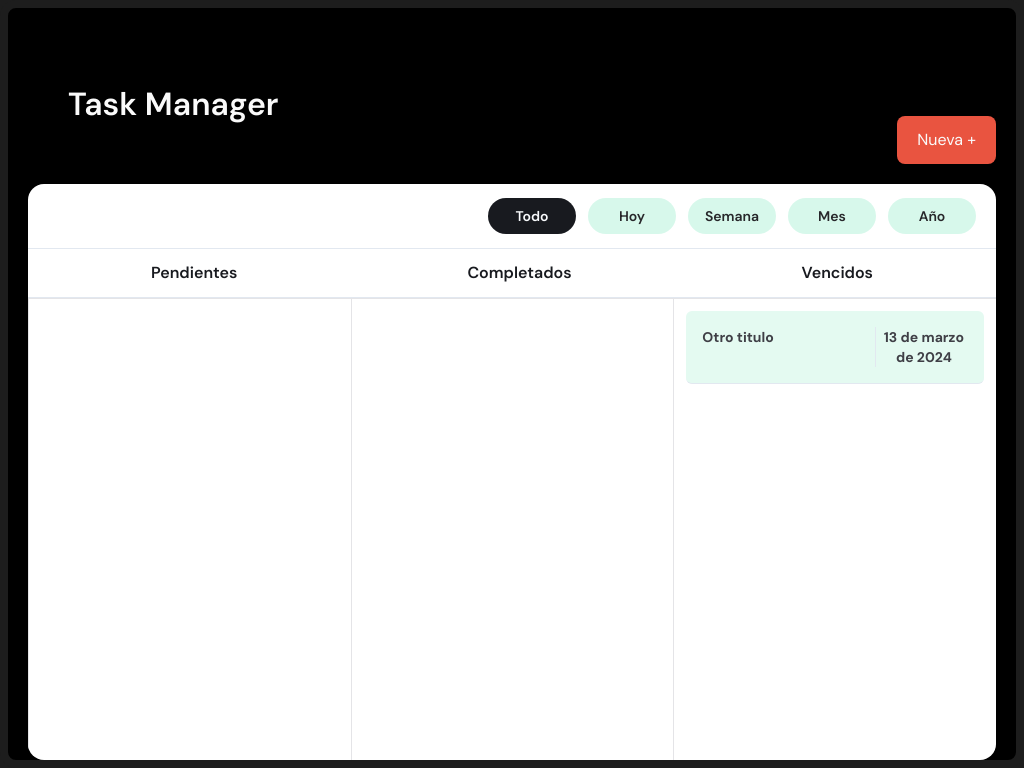
it: App › Tasks CRUD › Update › should edit subtasks list
This screenshot has width=1024, height=768.
Click the button with test id "task-card". click: (738, 337)
box: [686,311,984,383]
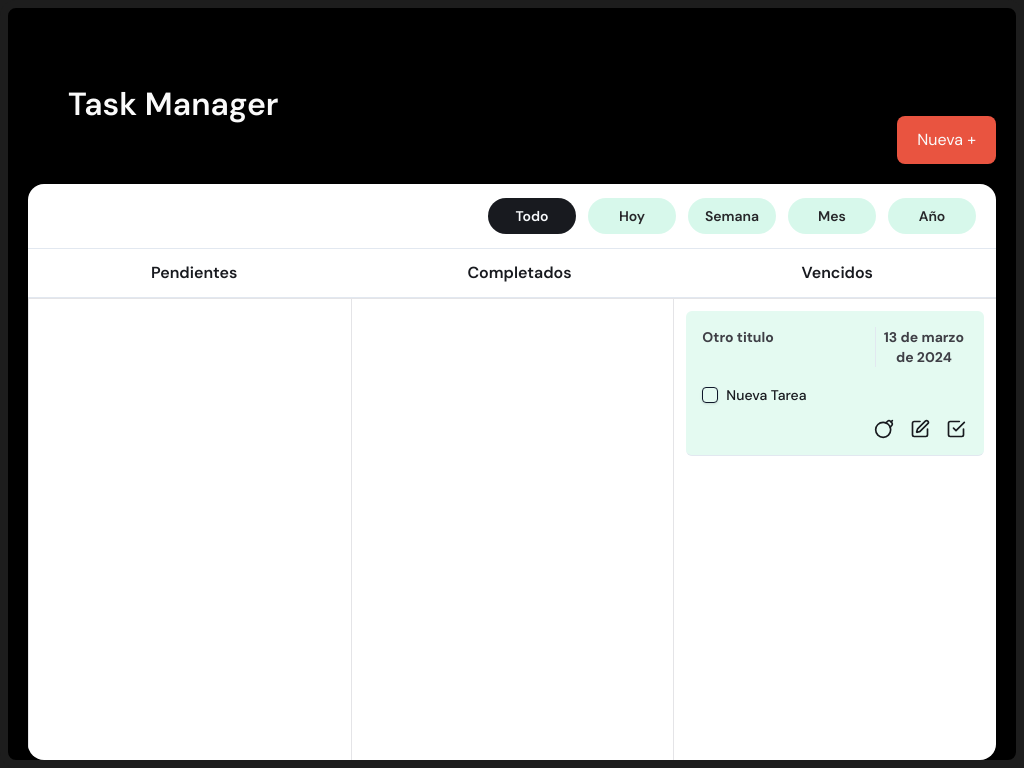
Click the button with test id "edit". click: (920, 429)
box: [908,419,932,439]
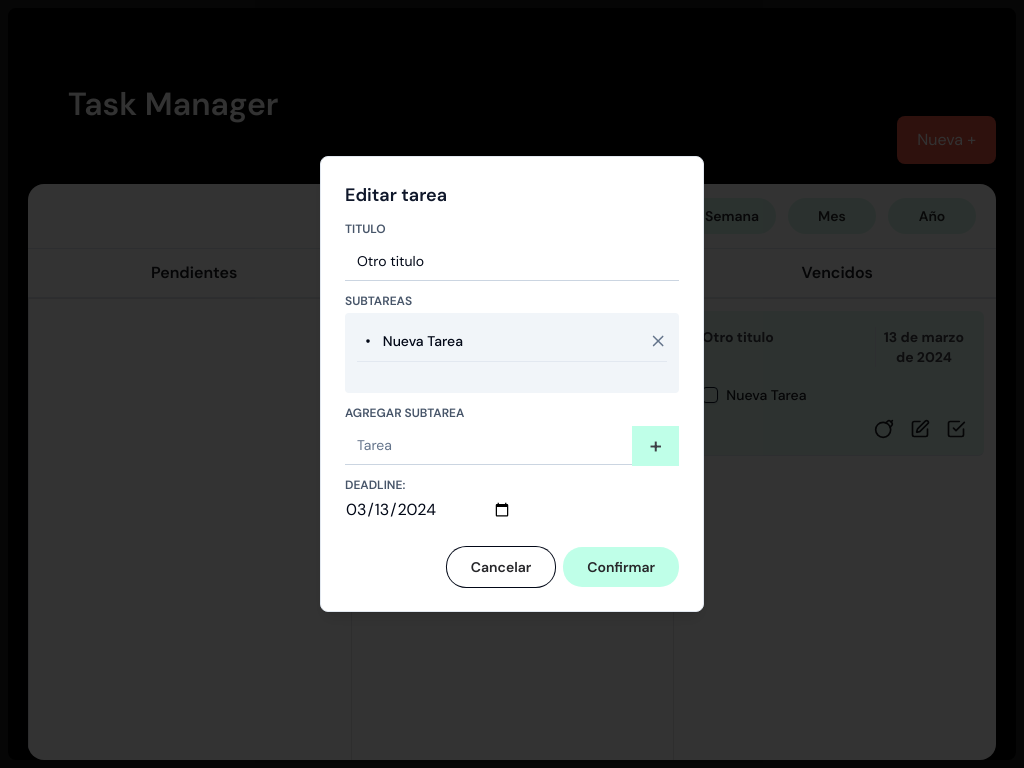
Type "tarea 2" into the field with placeholder "TAREA". click: (489, 445)
box: [345,425,632,465]
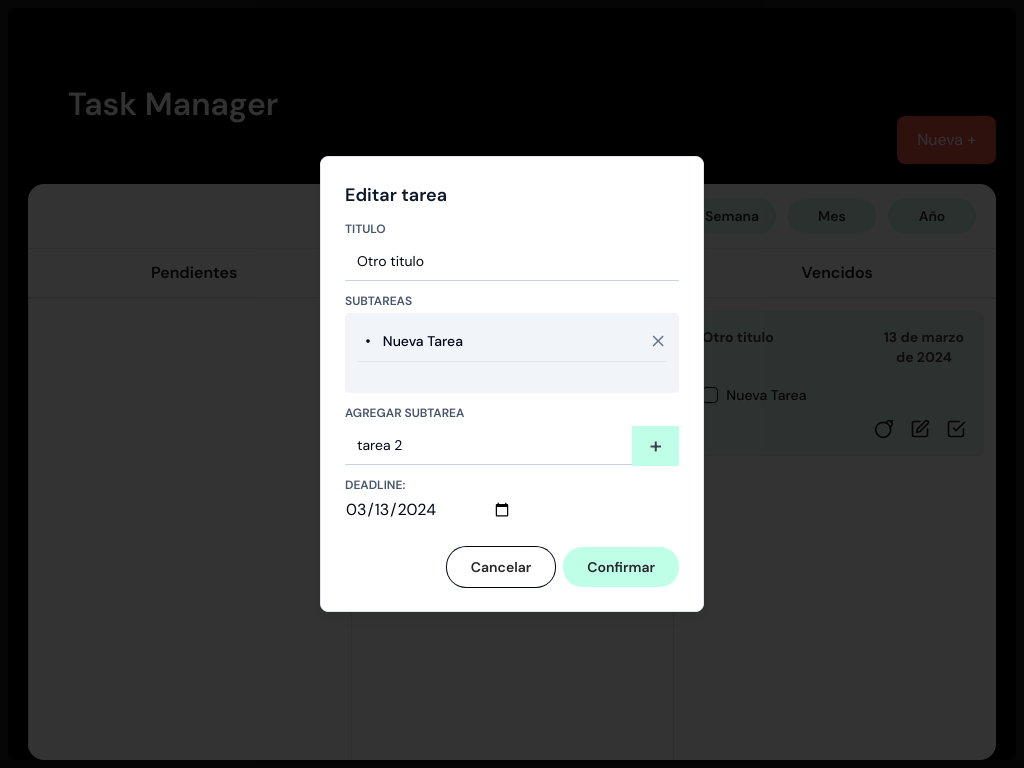
Click the button "+". click: (656, 446)
box: [632,426,679,466]
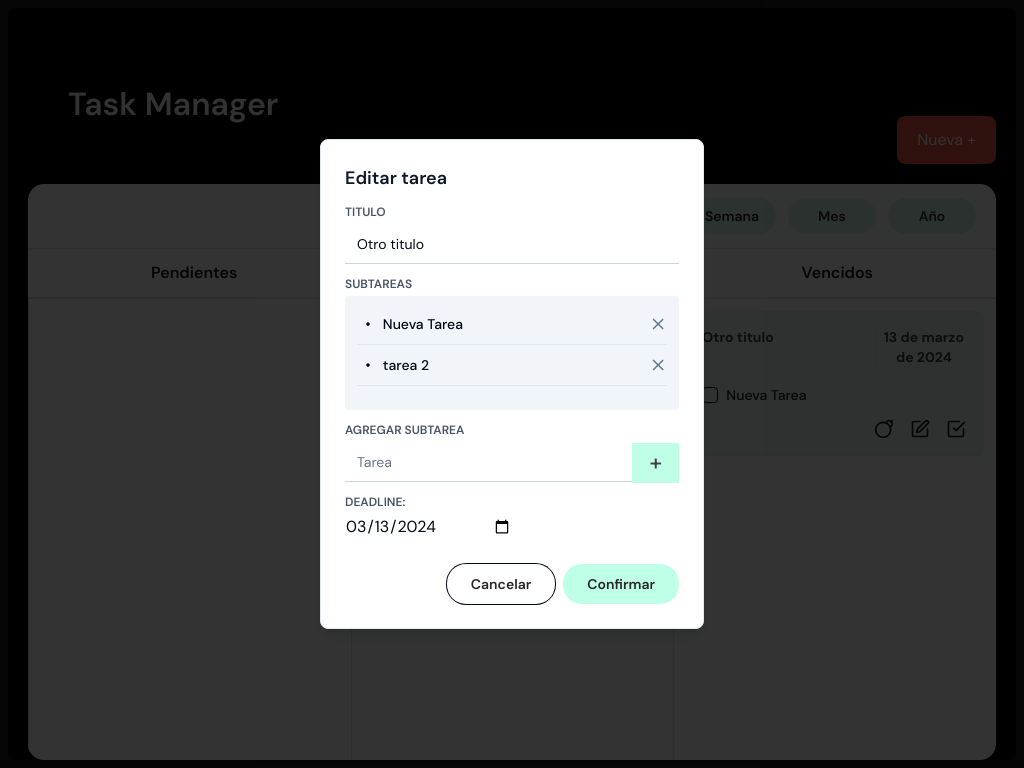
Click the button "Confirmar". click: (621, 584)
box: [563,564,679,604]
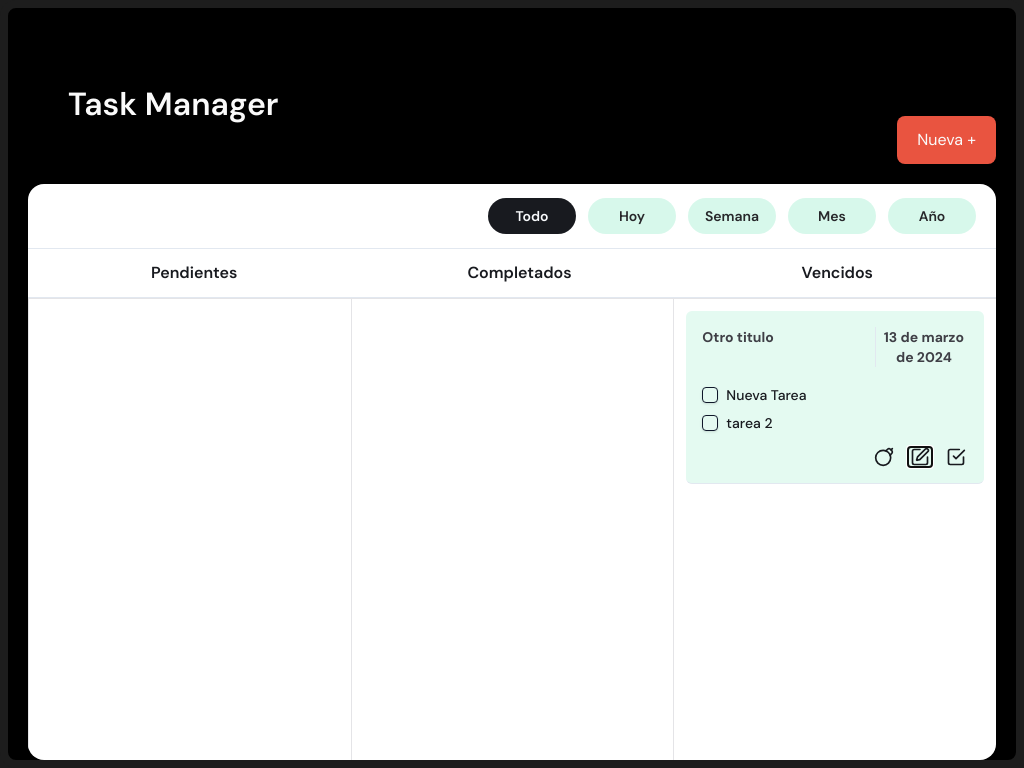
Expected: the number of elements with class "subtask" is 2, [702,386,806,404]; [702,414,772,432]
